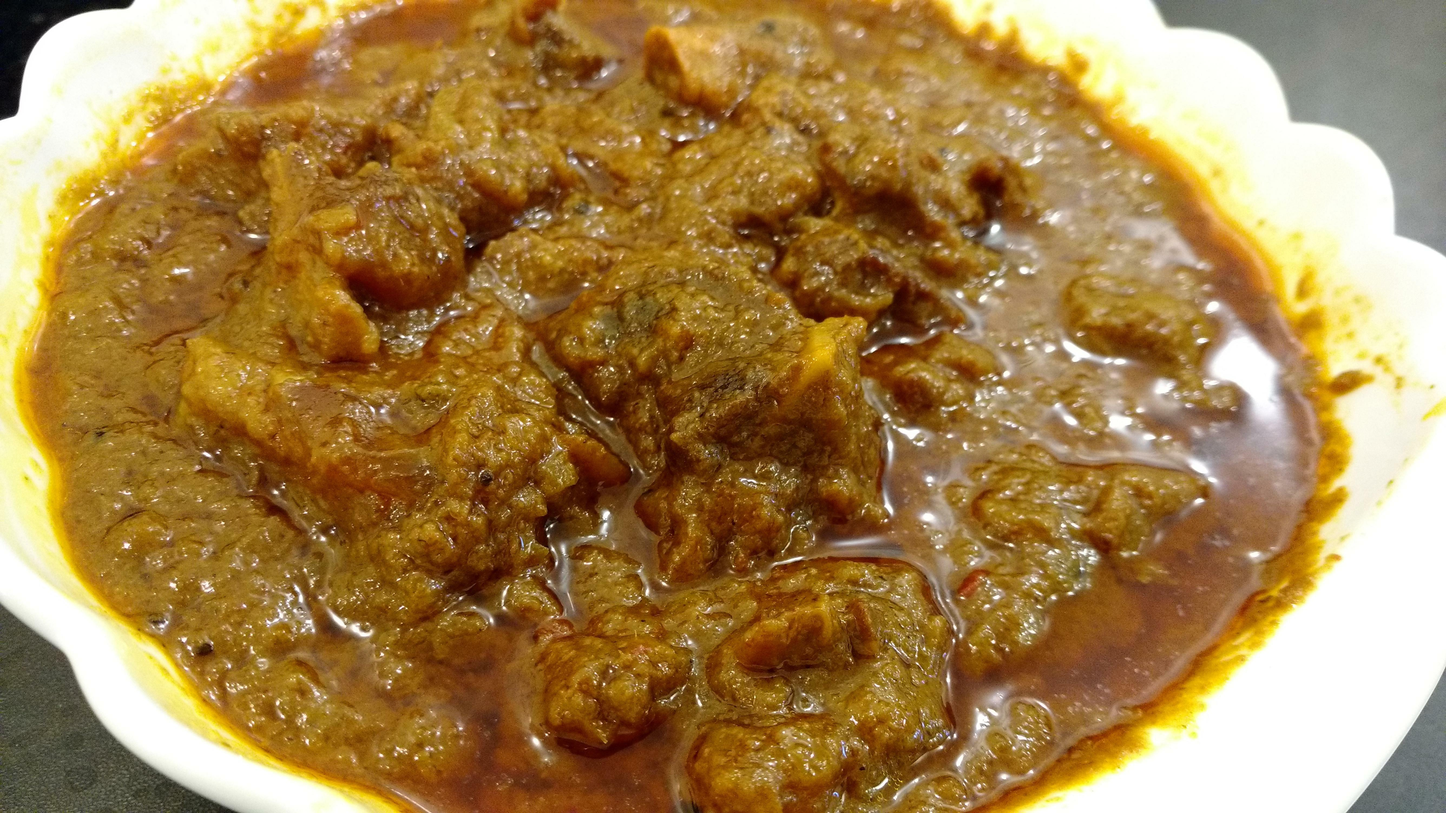MuttonCurry: (30, 0, 1352, 813)
